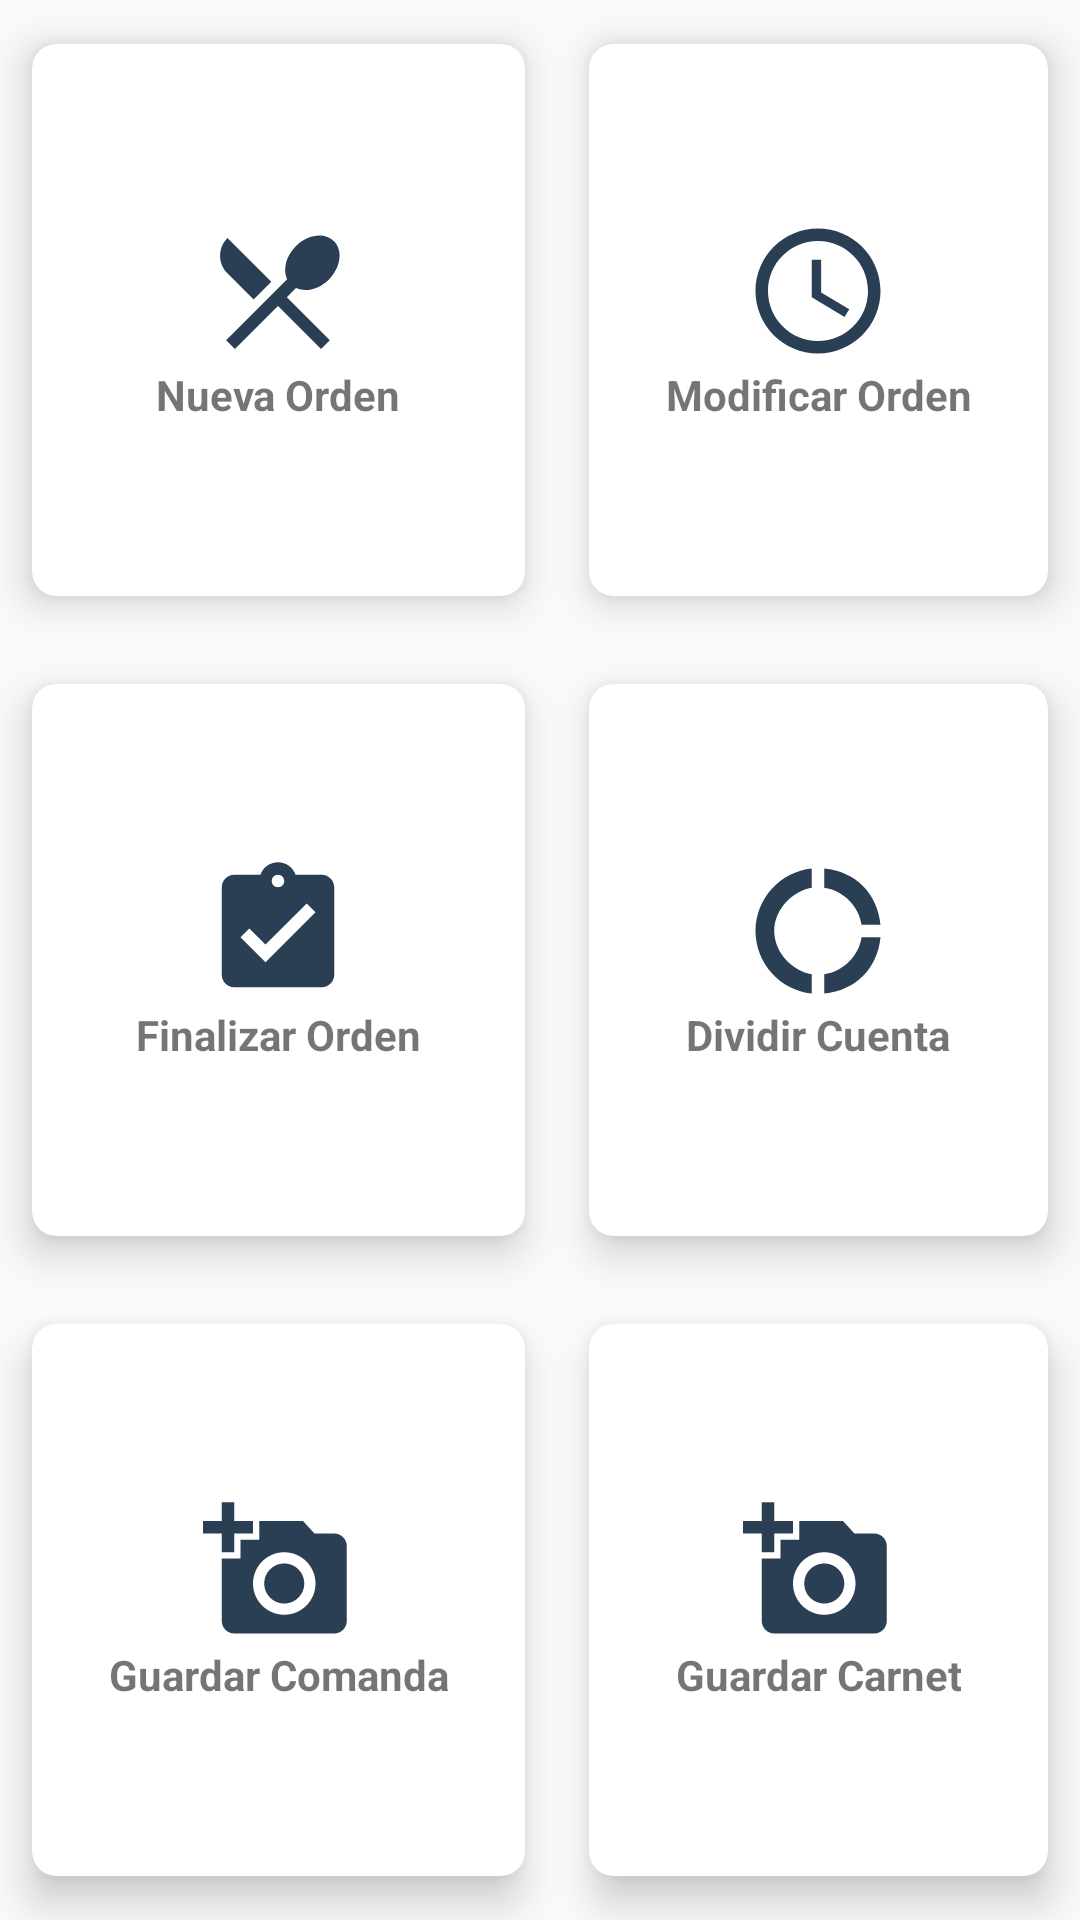

Icon bounding boxes for this 1080px×1920px phone screenshot, format (x1, y1, x2, y2):
access time dash: (755, 228, 881, 354)
add photo dash: (203, 1502, 347, 1634), (743, 1502, 887, 1634)
assignment turned dash: (221, 862, 335, 988)
donut dash: (755, 868, 881, 994)
restaurant menu dash: (220, 235, 340, 349)
